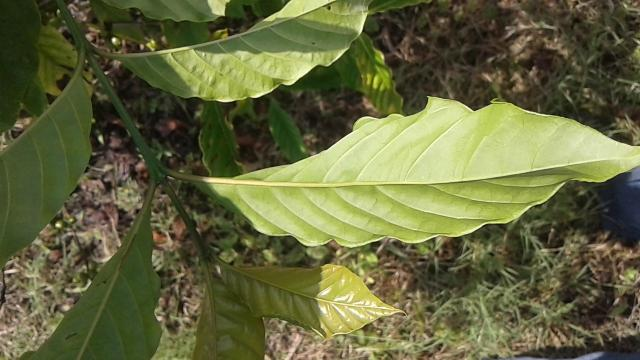healthy: (198, 93, 640, 250)
